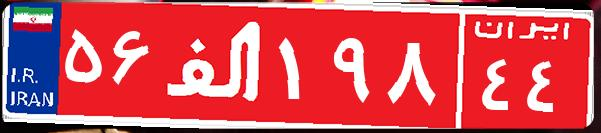1: (273, 28, 330, 110)
4: (475, 38, 525, 113), (525, 38, 570, 115)
5: (57, 26, 110, 107)
6: (110, 28, 158, 105)
8: (385, 28, 445, 110)
9: (330, 28, 385, 110)
الف: (158, 15, 273, 115)
